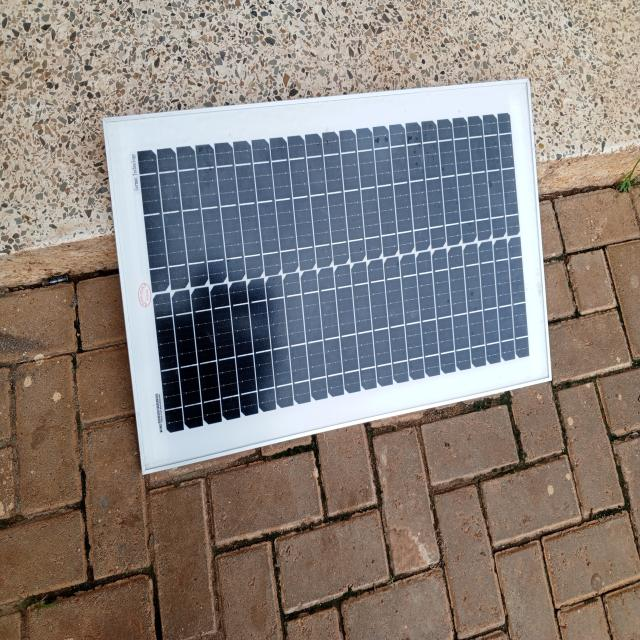Clean: (121, 121, 535, 374)
